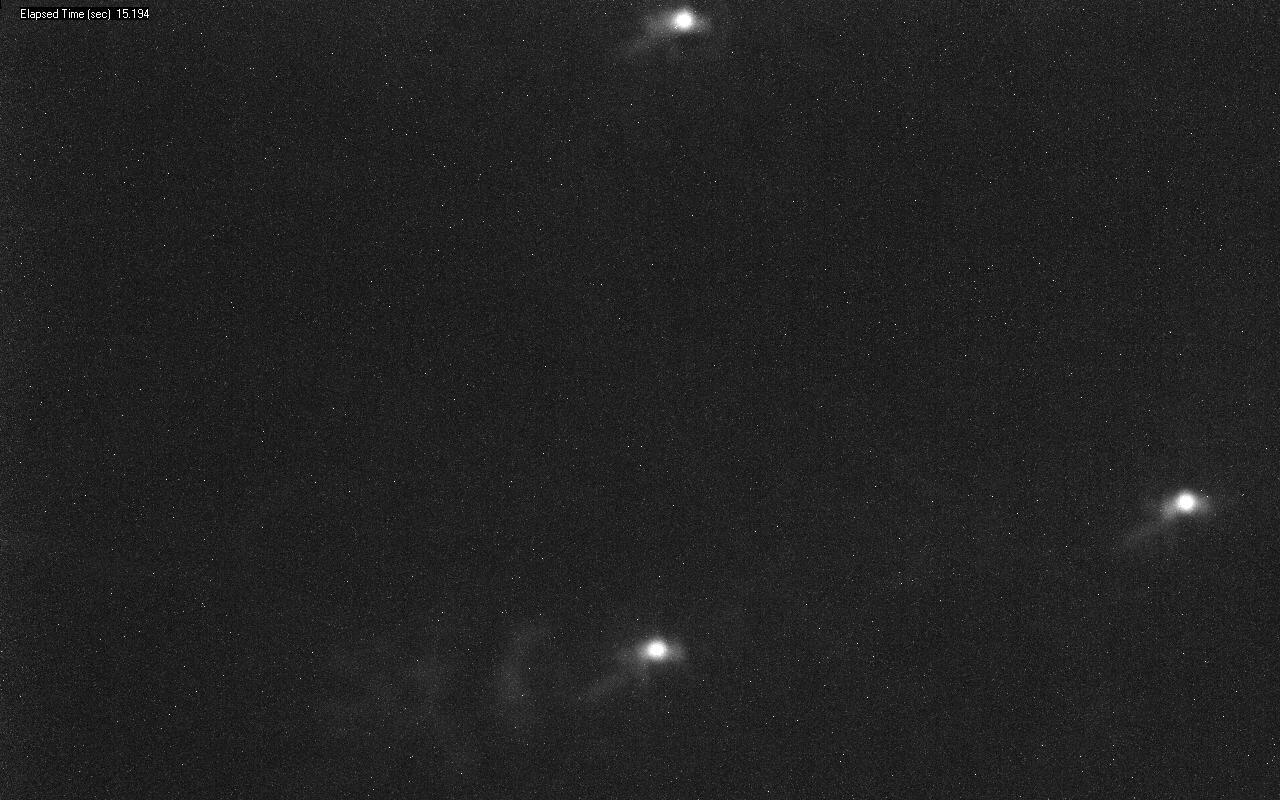Bead: (660, 8, 708, 36), (639, 636, 679, 661), (1171, 492, 1203, 517)
